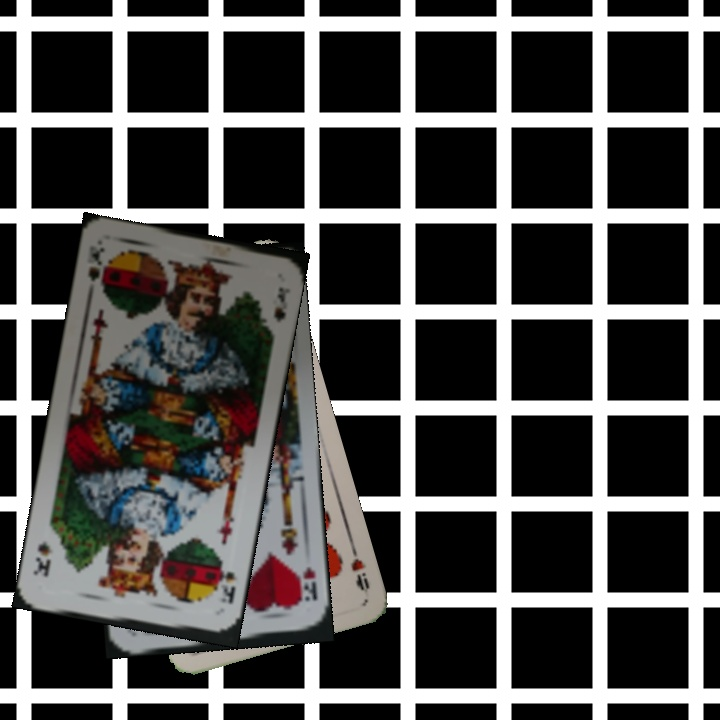H9: (346, 540, 372, 599)
HK: (299, 563, 319, 604)
SK: (84, 243, 109, 296), (211, 558, 238, 607)
